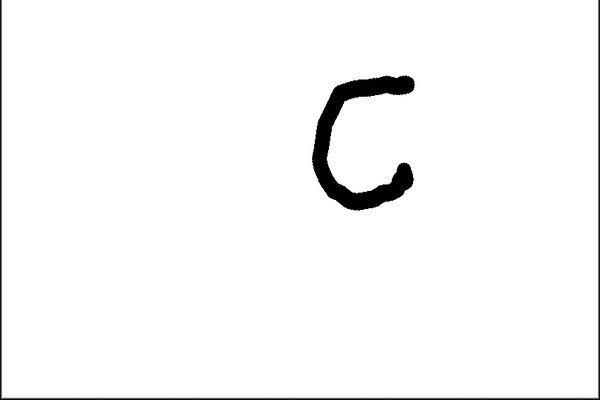C: (306, 69, 422, 215)
